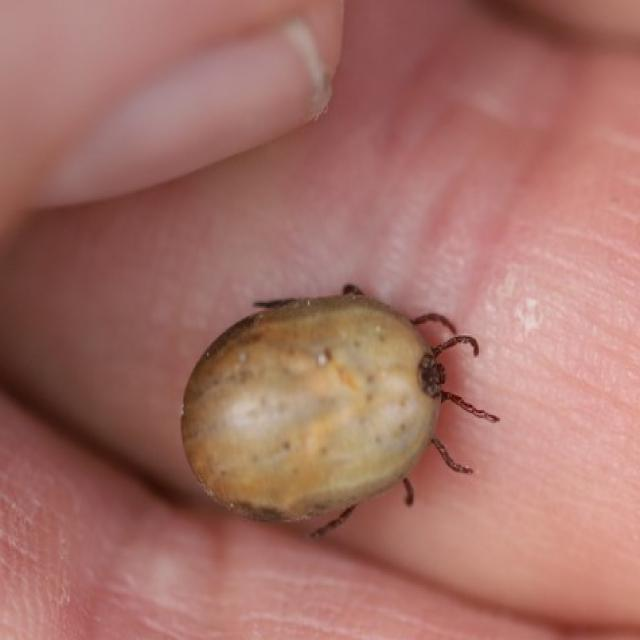Dermacentor Reticulatus-F-Fed: (180, 284, 499, 538)
